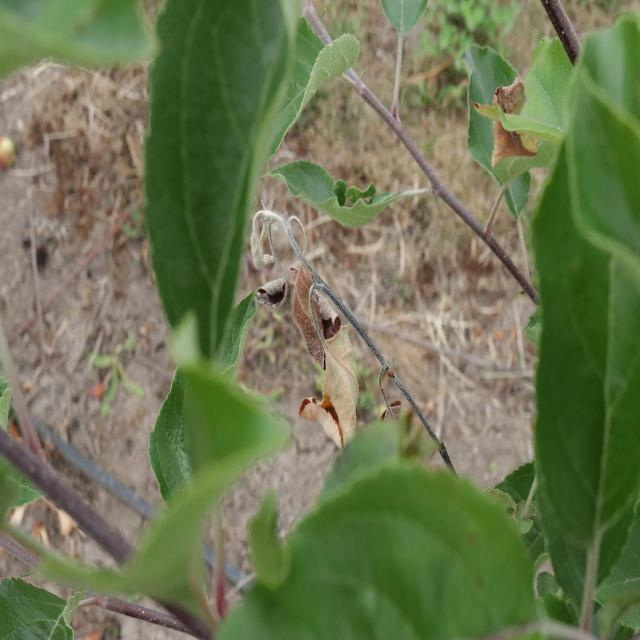-FireBlight-: (255, 211, 358, 440)
